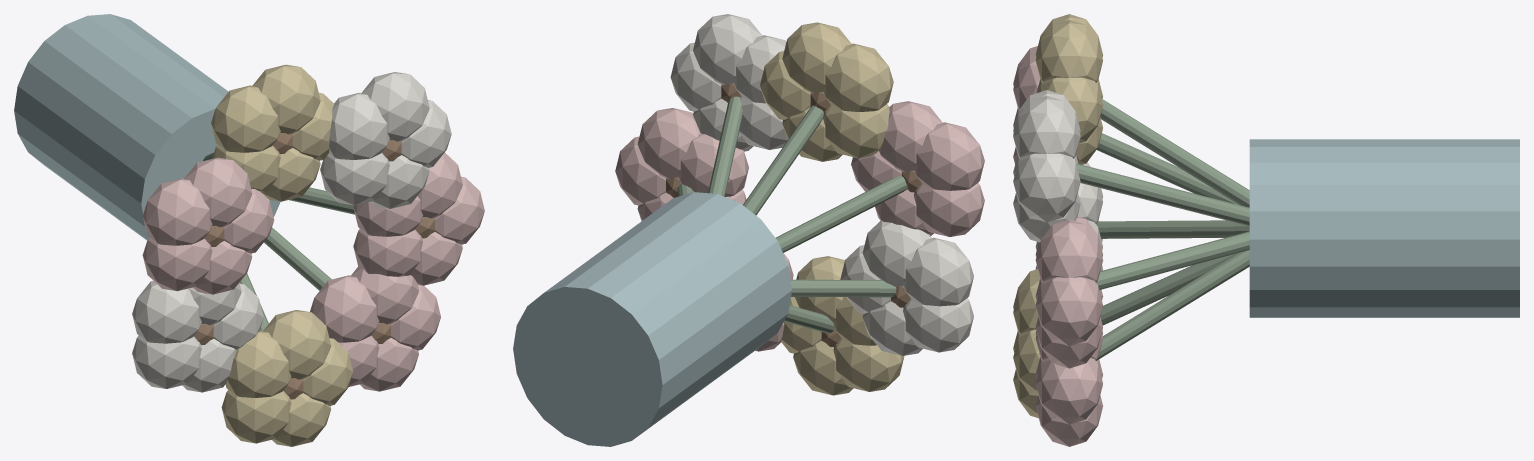
File: flower_vase.glb
3 views of the same model, side by side, from view 1: azimuth 30°, elevation 25°; view 2: azimuth 150°, elevation 25°; view 3: azimuth 270°, elevation 25° (orthographic). The views are drawn at different scales.
Visible parts, largest first — view 1: vase, petal_2_2, petal_3_2, petal_4_2, petal_6_2, petal_1_2, petal_5_2, petal_1_1, petal_2_1, petal_5_1, petal_3_1, petal_4_3 (+26 smaller); view 2: vase, petal_4_2, petal_2_2, petal_3_2, petal_2_1, petal_1_1, petal_0_1, petal_4_3, petal_3_3, petal_4_1, petal_3_1, petal_2_3 (+22 smaller); view 3: vase, petal_0_0, petal_1_0, petal_6_0, stem_1, petal_0_1, petal_1_1, petal_2_1, stem_2, stem_6, stem_0, stem_4 (+12 smaller).
Part boxes in pixels (bbox=[...]): vase: bbox=[14, 14, 280, 240]; petal_2_2: bbox=[211, 85, 280, 152]; petal_3_2: bbox=[142, 178, 212, 245]; petal_4_2: bbox=[132, 280, 201, 343]; petal_6_2: bbox=[310, 275, 379, 342]; petal_1_2: bbox=[329, 92, 389, 159]; petal_5_2: bbox=[225, 330, 291, 397]; petal_1_1: bbox=[361, 72, 429, 141]; petal_2_1: bbox=[252, 64, 320, 134]; petal_5_1: bbox=[263, 310, 331, 379]; petal_3_1: bbox=[184, 157, 252, 227]; petal_4_3: bbox=[132, 335, 201, 388]; vase: bbox=[513, 192, 791, 446]; petal_4_2: bbox=[903, 237, 973, 306]; petal_2_2: bbox=[823, 43, 893, 111]; petal_3_2: bbox=[914, 122, 984, 190]; petal_2_1: bbox=[782, 22, 851, 93]; petal_1_1: bbox=[693, 14, 762, 84]; petal_0_1: bbox=[637, 108, 699, 178]; petal_4_3: bbox=[903, 298, 973, 352]; petal_3_3: bbox=[914, 183, 984, 236]; petal_4_1: bbox=[862, 220, 931, 286]; petal_3_1: bbox=[879, 101, 942, 171]; petal_2_3: bbox=[823, 104, 890, 158]; vase: bbox=[1249, 139, 1519, 317]; petal_0_0: bbox=[1035, 277, 1102, 346]; petal_1_0: bbox=[1013, 153, 1080, 222]; petal_6_0: bbox=[1035, 358, 1102, 424]; stem_1: bbox=[1076, 163, 1249, 226]; petal_0_1: bbox=[1035, 219, 1103, 282]; petal_1_1: bbox=[1013, 95, 1080, 158]; petal_2_1: bbox=[1035, 19, 1102, 82]; stem_2: bbox=[1100, 98, 1249, 207]; stem_6: bbox=[1096, 250, 1249, 360]; stem_0: bbox=[1096, 231, 1249, 289]; stem_4: bbox=[1096, 220, 1249, 238].
Size of the model in its own units: 0.5653 by 0.5794 by 0.675.
